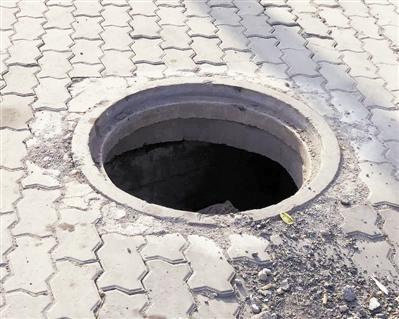wellcover: (67, 80, 356, 214)
